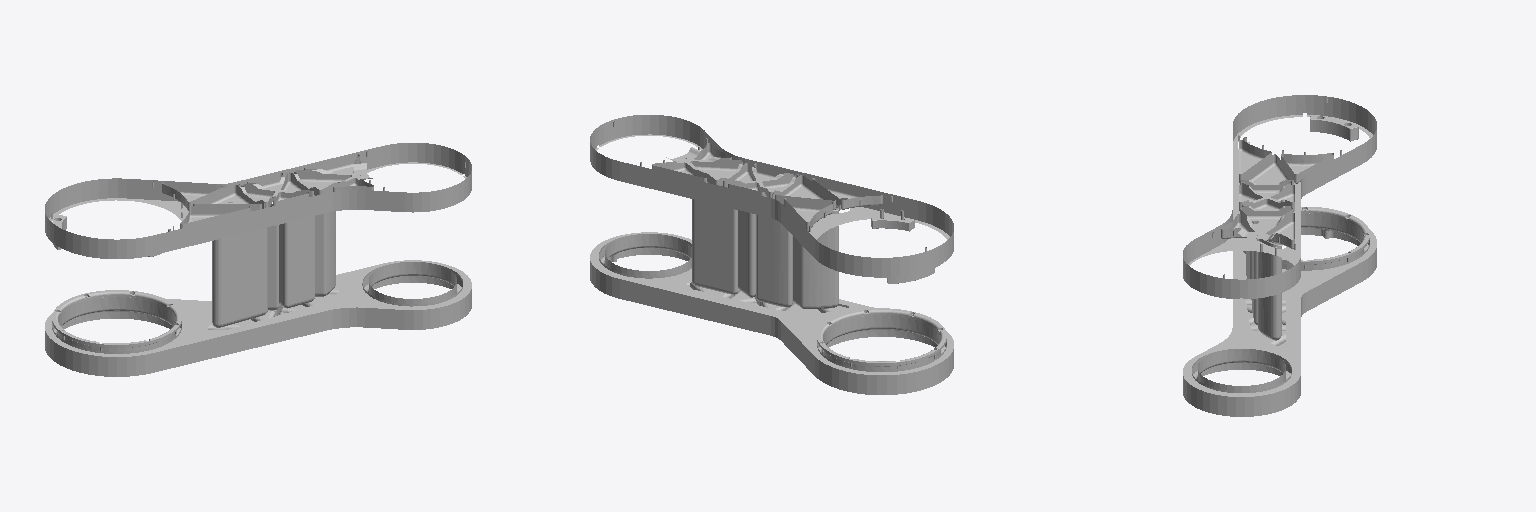
The model's file is torso_l1_4.obj.
3 renders of one model, left to right at view 1: azimuth 30°, elevation 25°; view 2: azimuth 150°, elevation 25°; view 3: azimuth 270°, elevation 25°, orthographic.
Bounding box in the file's own units: 0.567 × 0.2 × 0.2529.